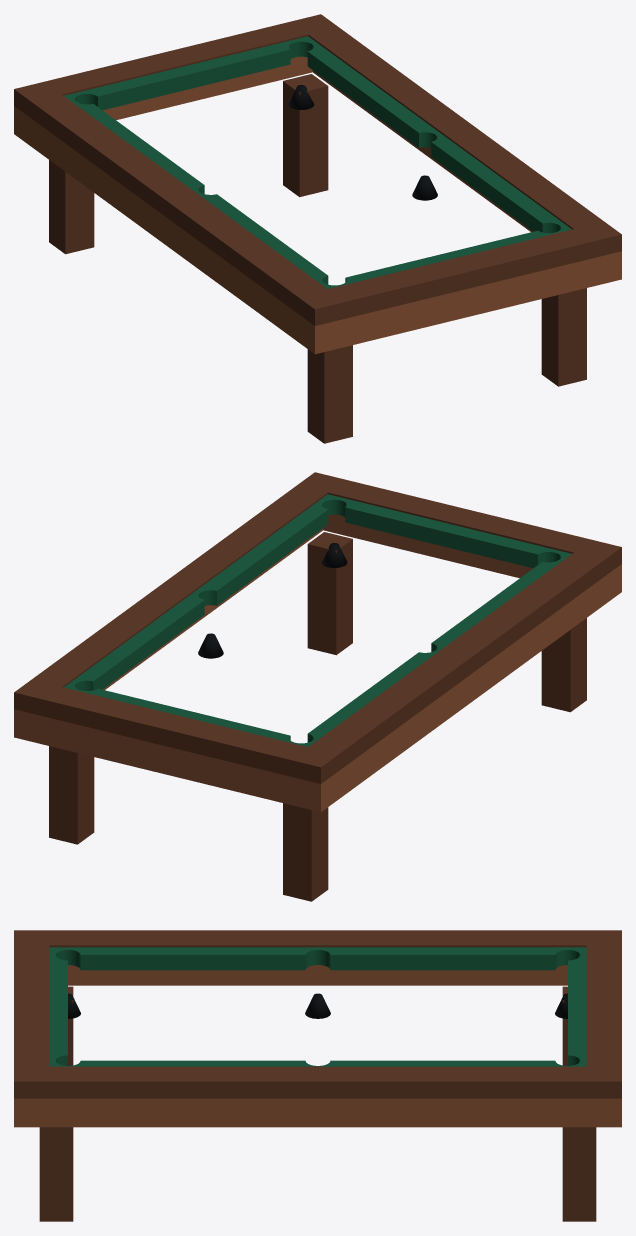
The model's file is table.glb.
3 views of the same model, one above another, from view 1: azimuth 30°, elevation 25°; view 2: azimuth 150°, elevation 25°; view 3: azimuth 270°, elevation 25° (orthographic).
Parts seen in each view (by area): view 1: PoolTable; view 2: PoolTable; view 3: PoolTable.
Boxes of the visible parts, box(x1,y1,x2,y2) form: PoolTable: box(14, 14, 621, 443); PoolTable: box(14, 472, 621, 901); PoolTable: box(14, 930, 621, 1221).
Size of the model in its own units: 1.82 by 0.8449 by 3.09.
